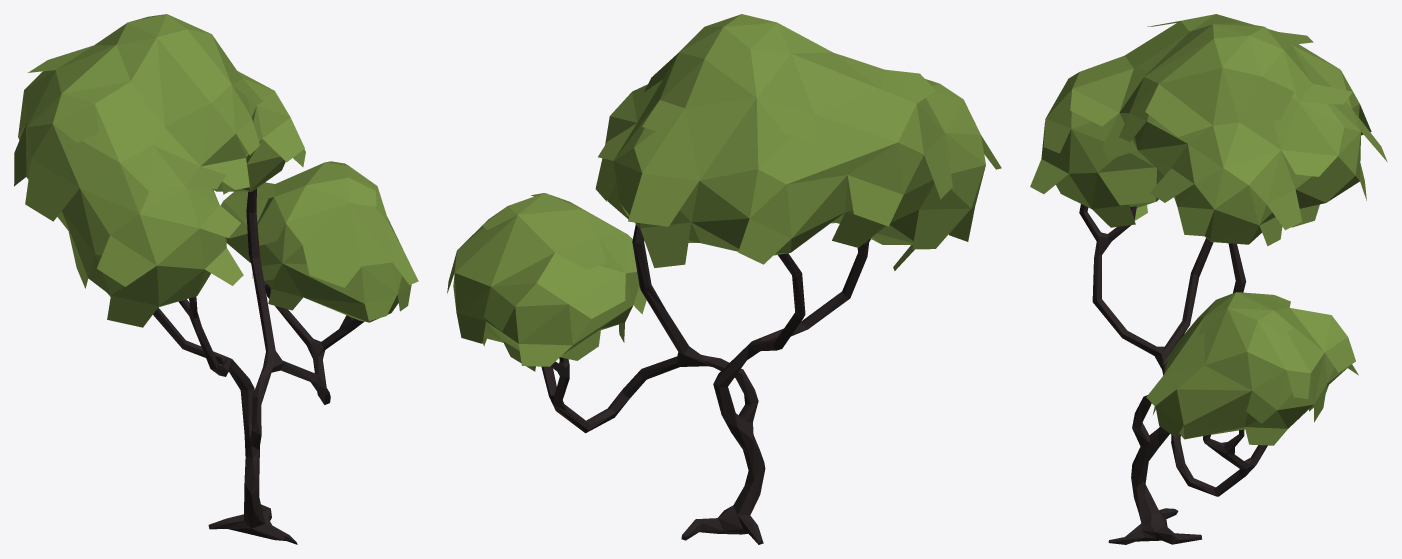
File: Tree_Forest_Green_01.fbx
The picture shows the model from 3 angles, left to right: view 1: azimuth 30°, elevation 25°; view 2: azimuth 150°, elevation 25°; view 3: azimuth 270°, elevation 25°; orthographic projection. The views are drawn at different scales.
Visible parts, largest first — view 1: Tree_Forest_Green_01; view 2: Tree_Forest_Green_01; view 3: Tree_Forest_Green_01.
Part boxes in pixels (<box>): Tree_Forest_Green_01: <box>14,14,418,544</box>; Tree_Forest_Green_01: <box>447,14,1001,544</box>; Tree_Forest_Green_01: <box>1030,14,1387,544</box>.
Size of the model in its own units: 795 by 958 by 644.
